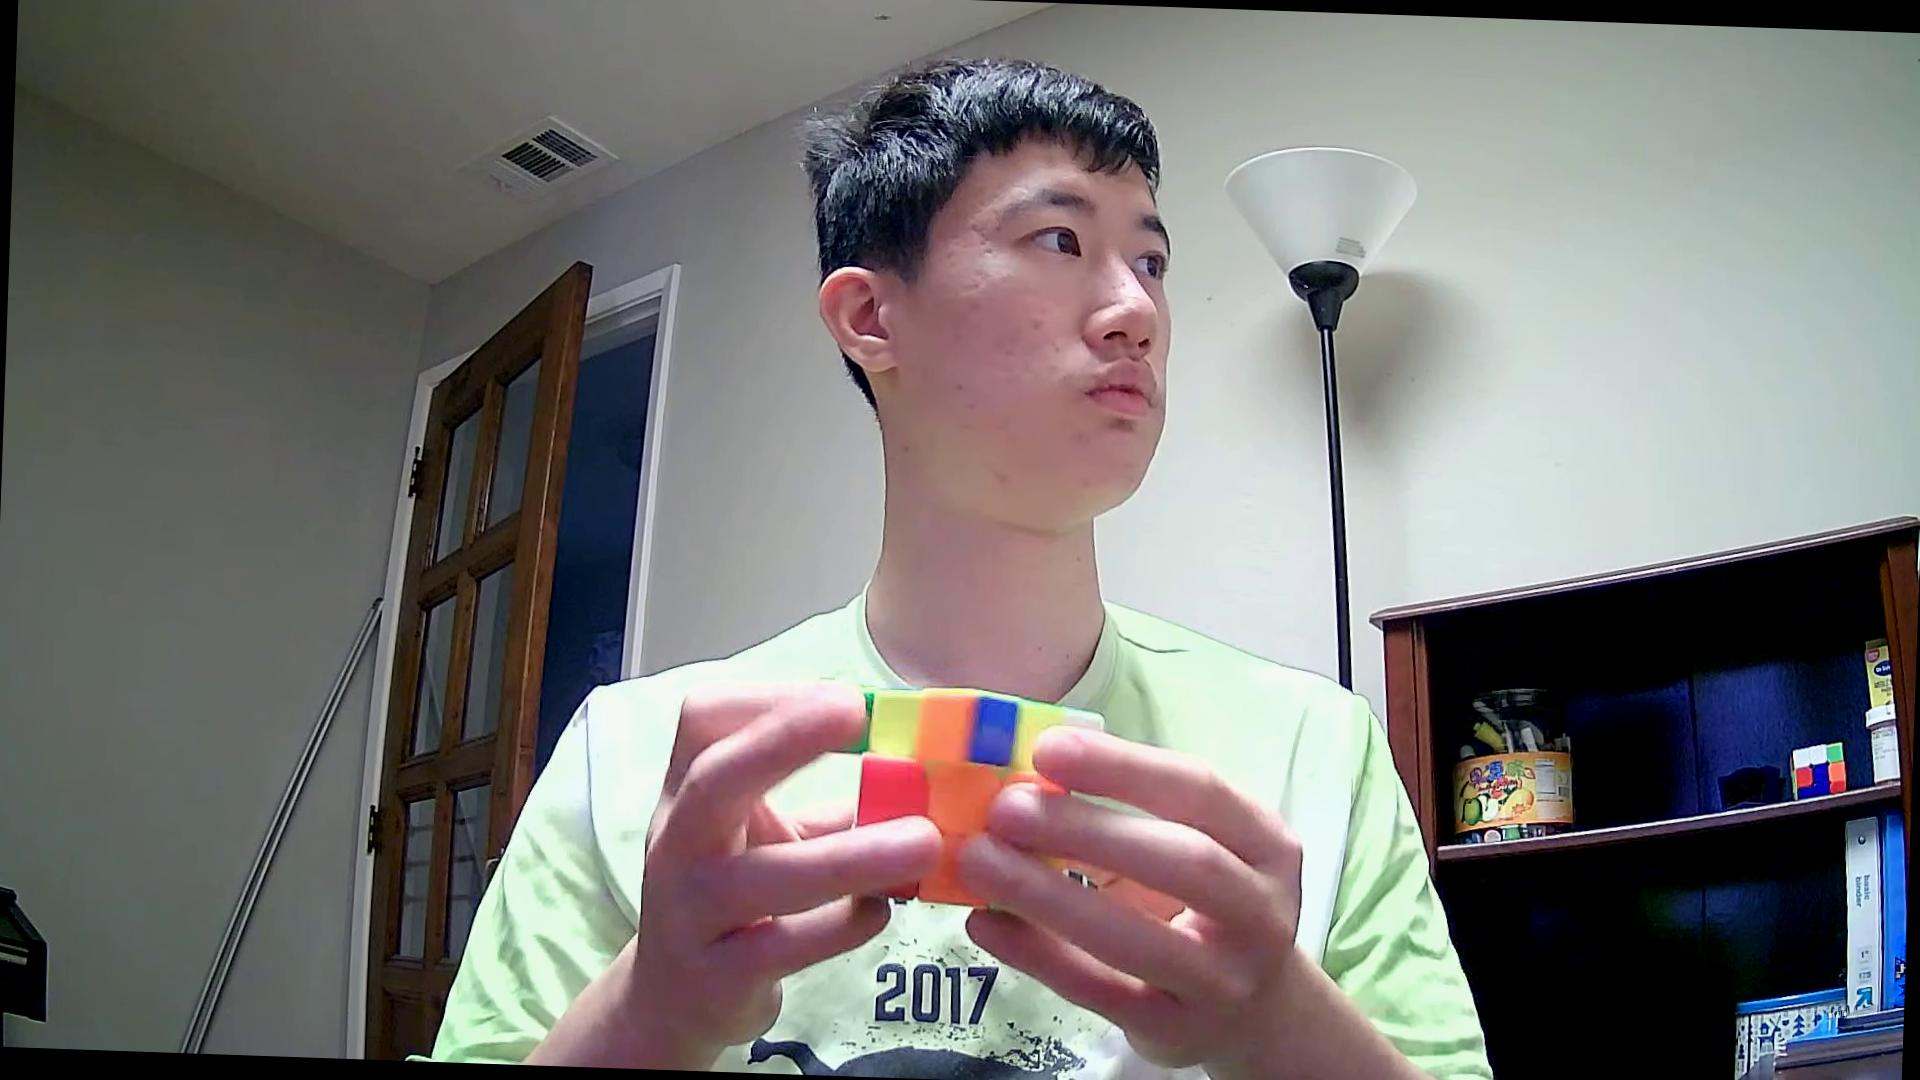Rubiks-Cube: (824, 669, 1112, 934)
